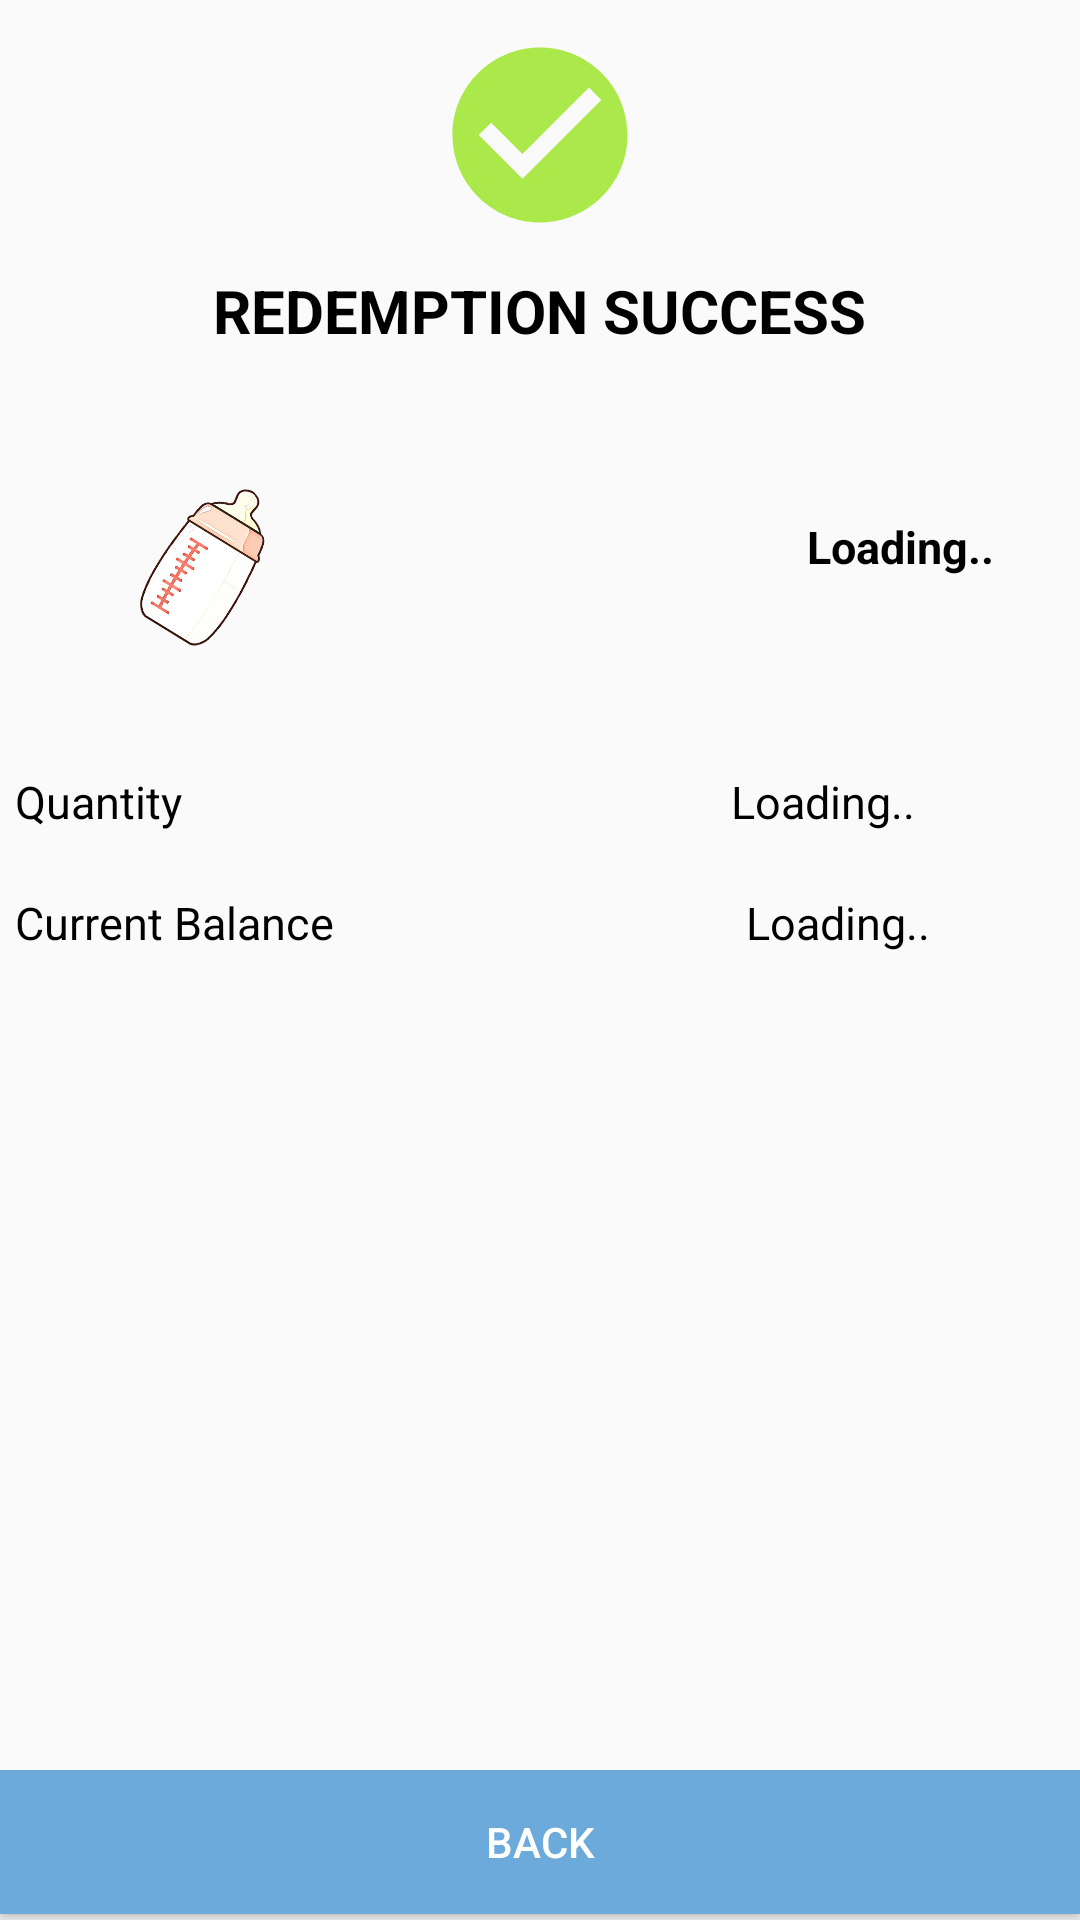

Icons on this 1080 x 1920 Android screen, each with the point to tap as (x=x, y=y):
successicon: (x=540, y=135)
